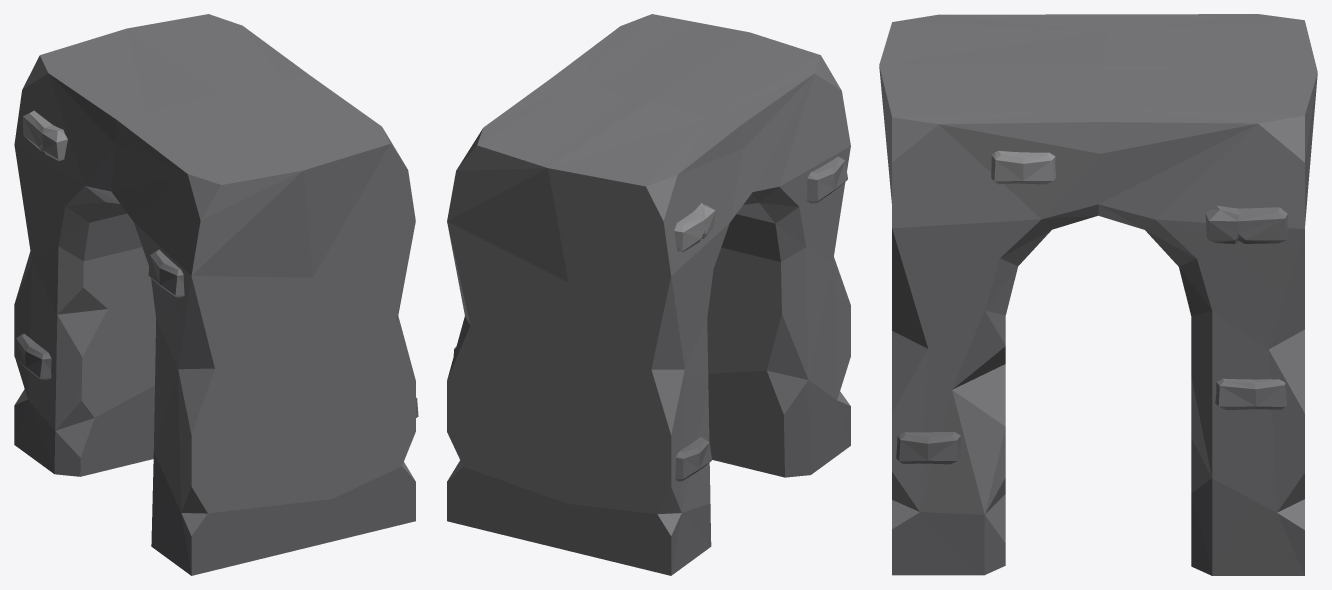
Rendered from SM_Bld_Rockwall_Archway_01.gltf.
3 renders of one model, left to right at view 1: azimuth 30°, elevation 25°; view 2: azimuth 150°, elevation 25°; view 3: azimuth 270°, elevation 25°, orthographic. The views are drawn at different scales.
Parts seen in each view (by area): view 1: SM_Bld_Rockwall_Archway_01; view 2: SM_Bld_Rockwall_Archway_01; view 3: SM_Bld_Rockwall_Archway_01.
Part boxes in pixels (x1,y1,x2,y2): SM_Bld_Rockwall_Archway_01: [14, 14, 418, 575]; SM_Bld_Rockwall_Archway_01: [447, 14, 850, 575]; SM_Bld_Rockwall_Archway_01: [879, 14, 1317, 575].
Bounding box in the file's own units: 1.8 × 2.75 × 2.45.
Materials: 1 (1 with a texture image).
